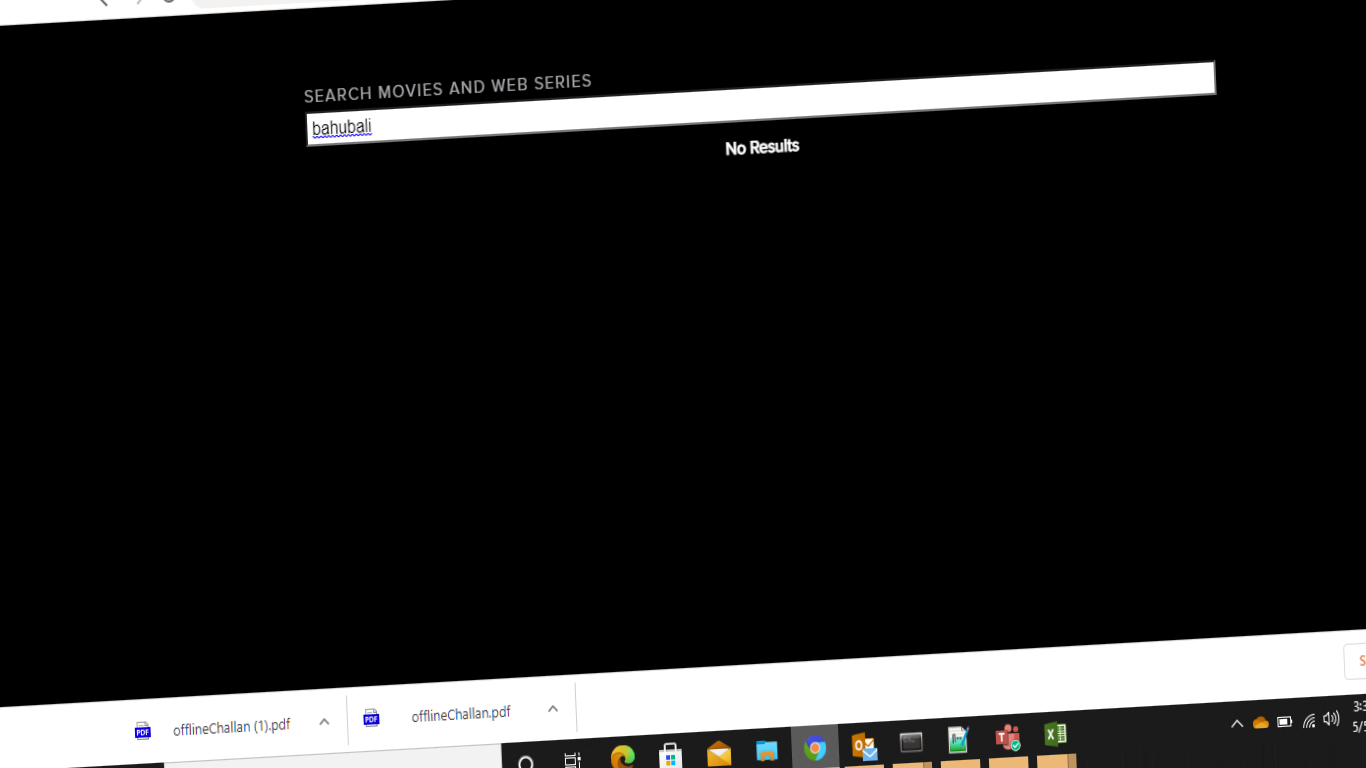noresultsfound: (689, 138, 856, 178)
searchtextbox: (278, 67, 1256, 142)
